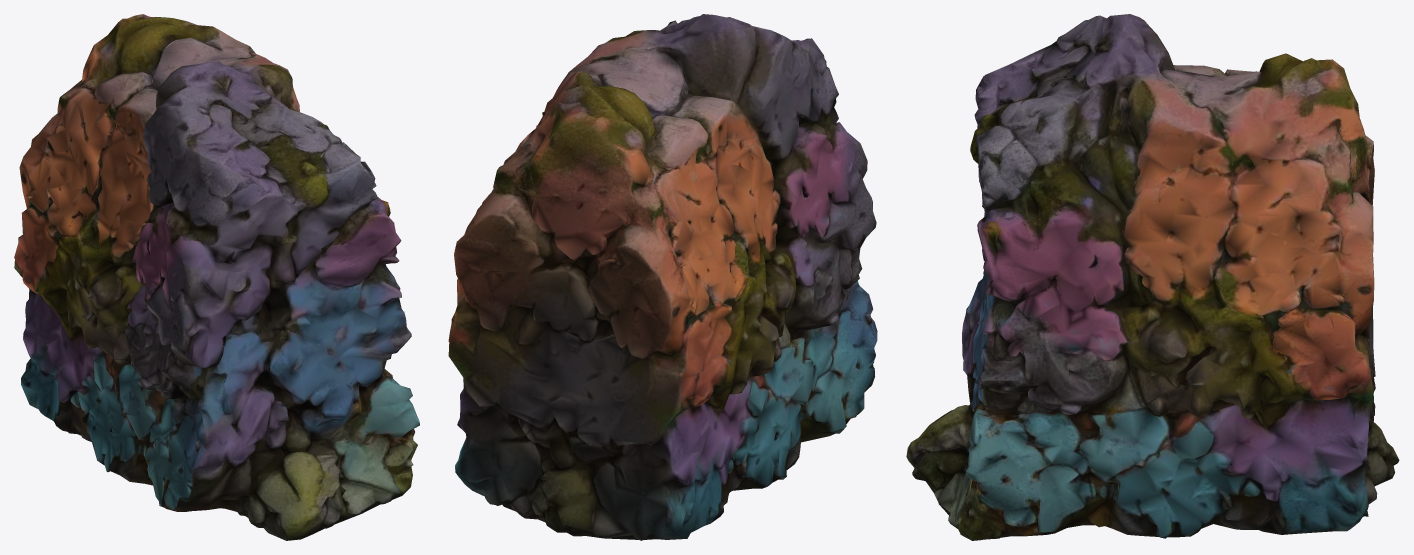
The model's file is coral.glb.
3 views of the same model, side by side, from view 1: azimuth 30°, elevation 25°; view 2: azimuth 150°, elevation 25°; view 3: azimuth 270°, elevation 25° (orthographic). The views are drawn at different scales.
Parts seen in each view (by area): view 1: tripo_node_18ea696a; view 2: tripo_node_18ea696a; view 3: tripo_node_18ea696a.
Part boxes in pixels (bbox=[...]): tripo_node_18ea696a: bbox=[14, 14, 419, 540]; tripo_node_18ea696a: bbox=[448, 14, 877, 540]; tripo_node_18ea696a: bbox=[906, 14, 1399, 540].
Bounding box in the file's own units: 0.6126 × 0.9787 × 0.9715.
Materials: 1 (1 with a texture image).
